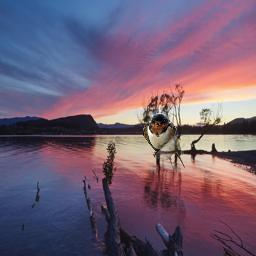Swallow: (143, 113, 185, 169)
